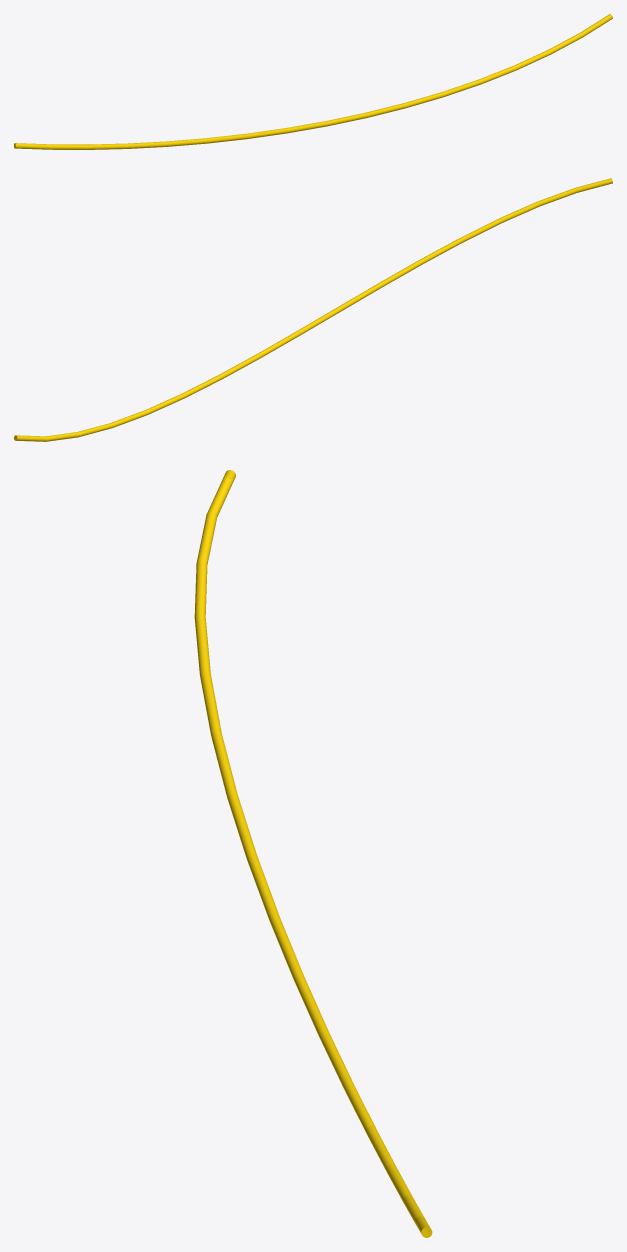
The model's file is Event_421278790_track_51.fbx.
The picture shows the model from 3 angles, top to bottom: view 1: azimuth 30°, elevation 25°; view 2: azimuth 210°, elevation 25°; view 3: azimuth 270°, elevation 25°; orthographic projection. The views are drawn at different scales.
Parts seen in each view (by area): view 1: Model; view 2: Model; view 3: Model.
Part boxes in pixels (box(x1,y1,x2,y2)): Model: box(14, 14, 612, 149); Model: box(14, 178, 612, 441); Model: box(194, 470, 432, 1237).
Bounding box in the file's own units: 5.41 × 0.7097 × 0.8601.
